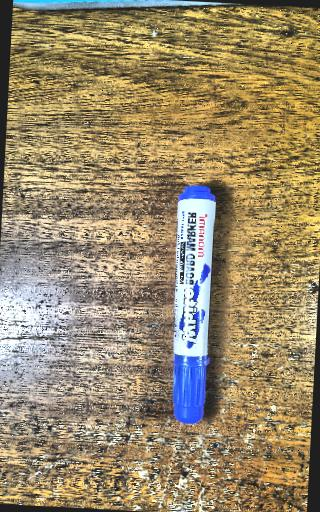marcador azul: (173, 185, 216, 424)
